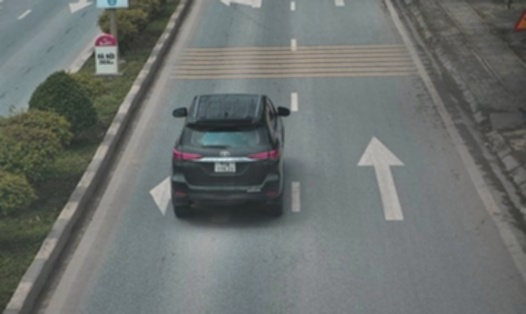Bien-so: (199, 159, 222, 173)
